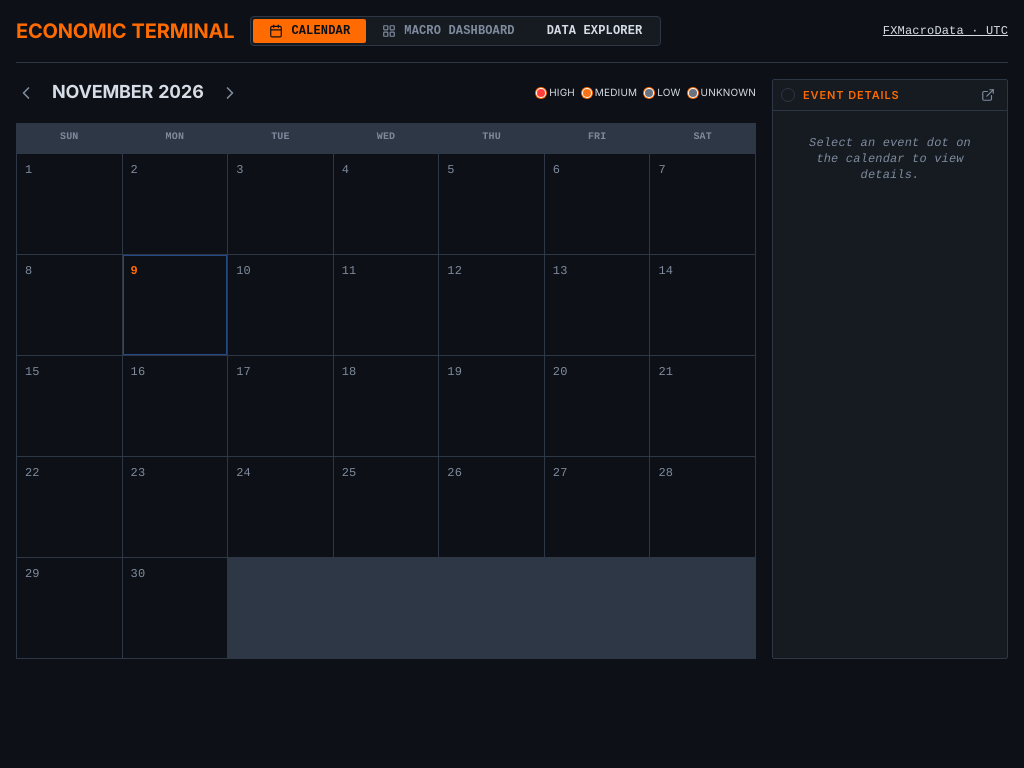
Scenario: runs a discovered operation through the normal terminal explorer tab
Click the button "DATA EXPLORER". click: (595, 31)
box: x1=531 y1=19 x2=658 y2=43
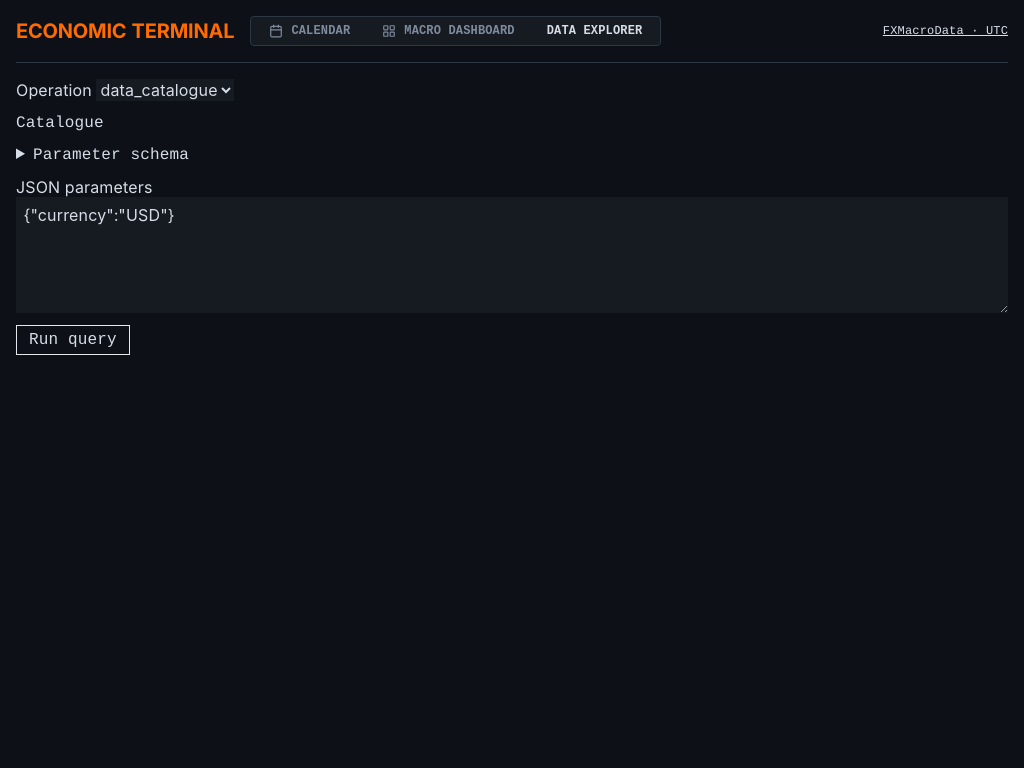
Expected: the text "Catalogue" is shown, x1=16 y1=114 x2=104 y2=132
Click the button "Run query". click: (73, 340)
box: x1=16 y1=325 x2=130 y2=355
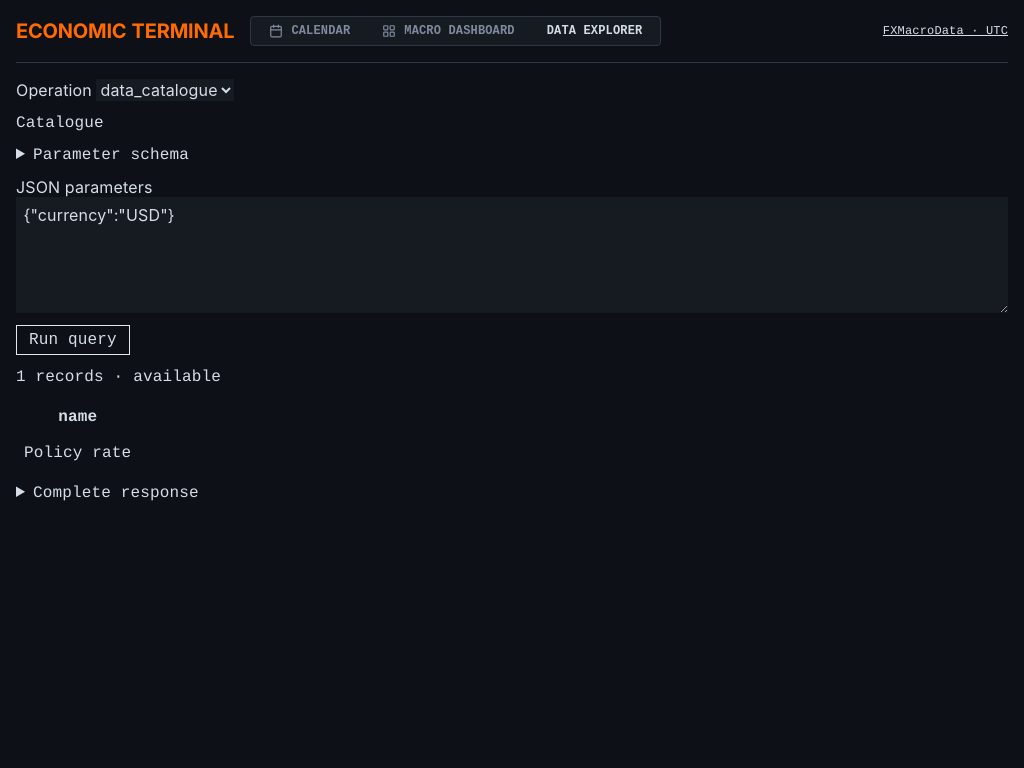
Expected: the cell "Policy rate" is shown, x1=16 y1=435 x2=139 y2=471
